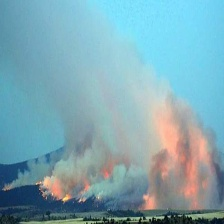fire: (35, 179, 72, 204)
smoke: (4, 5, 220, 203)
